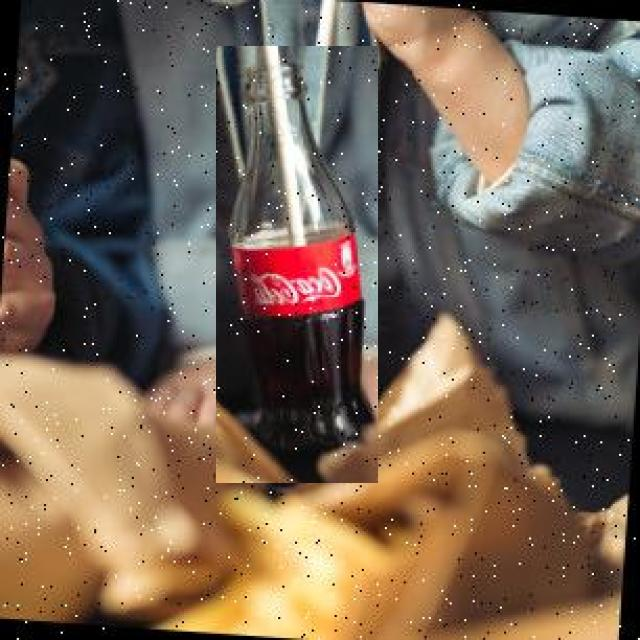coca-cola: (216, 46, 378, 483)
